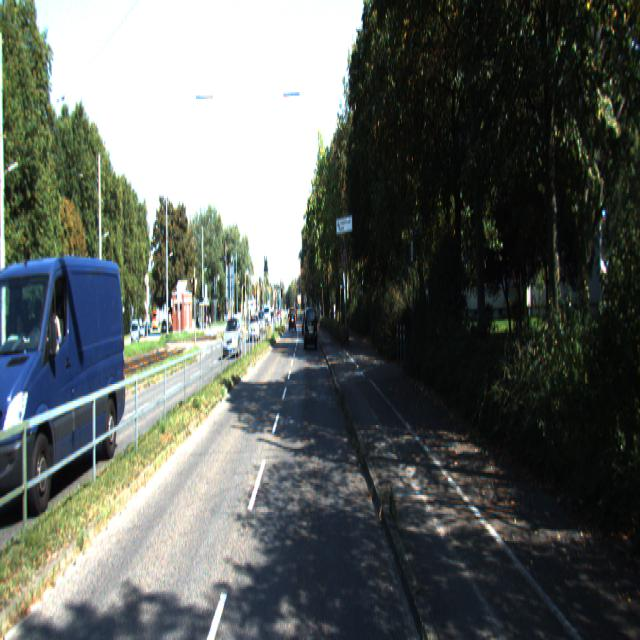Car: (0, 235, 130, 528), (222, 316, 242, 360), (304, 305, 318, 349)
